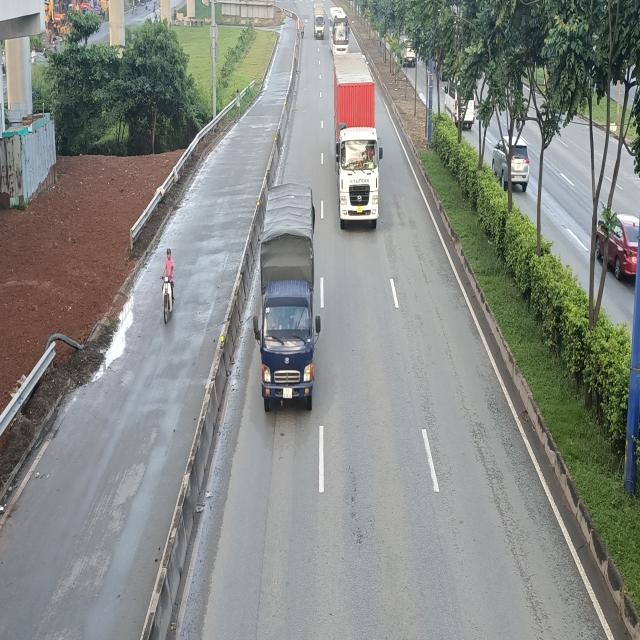container: (333, 49, 383, 232)
truck: (255, 182, 322, 410)
